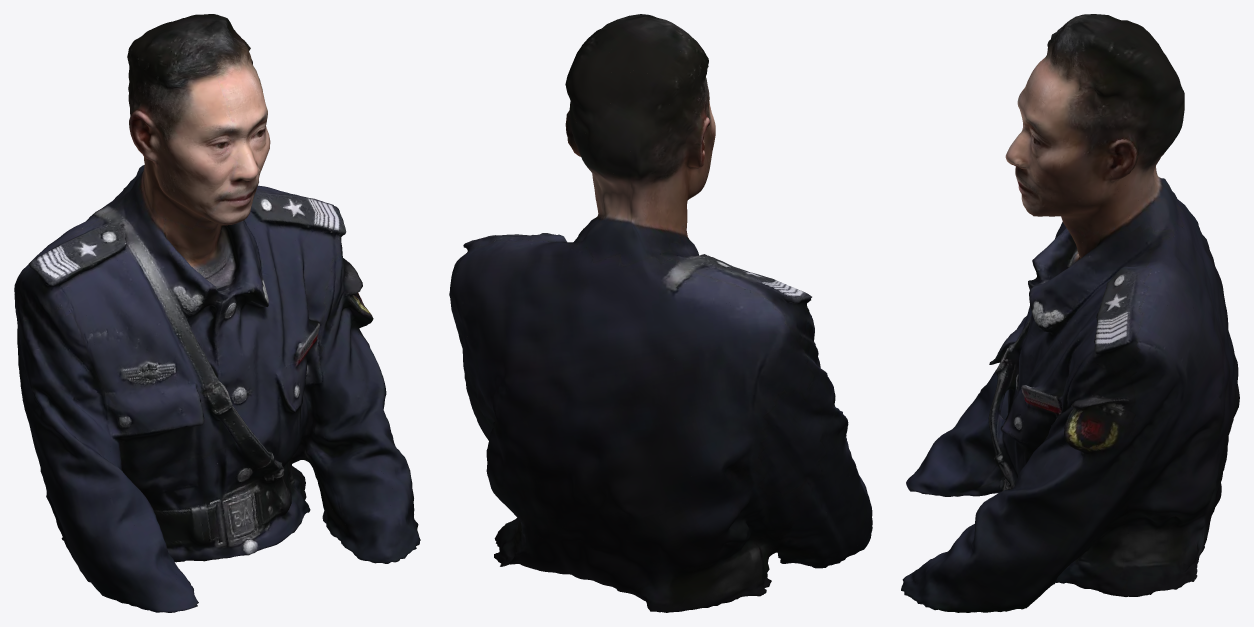
Rendered from 真人头像_男_穿制服中年男01_opt.glb.
3 renders of one model, left to right at view 1: azimuth 30°, elevation 25°; view 2: azimuth 150°, elevation 25°; view 3: azimuth 270°, elevation 25°, orthographic. The views are drawn at different scales.
Visible parts, largest first — view 1: initialShadingGroup, initialShadingGroup_1; view 2: initialShadingGroup, initialShadingGroup_1; view 3: initialShadingGroup, initialShadingGroup_1.
Boxes of the visible parts, x1,y1,x2,y2 form: initialShadingGroup: (14,14,420,612); initialShadingGroup_1: (18,35,416,612); initialShadingGroup: (449,14,872,612); initialShadingGroup_1: (456,48,870,609); initialShadingGroup: (901,14,1239,612); initialShadingGroup_1: (904,35,1226,611).
Bounding box in the file's own units: 0.2104 × 0.3 × 0.1778.
1 material, 1 textured.
